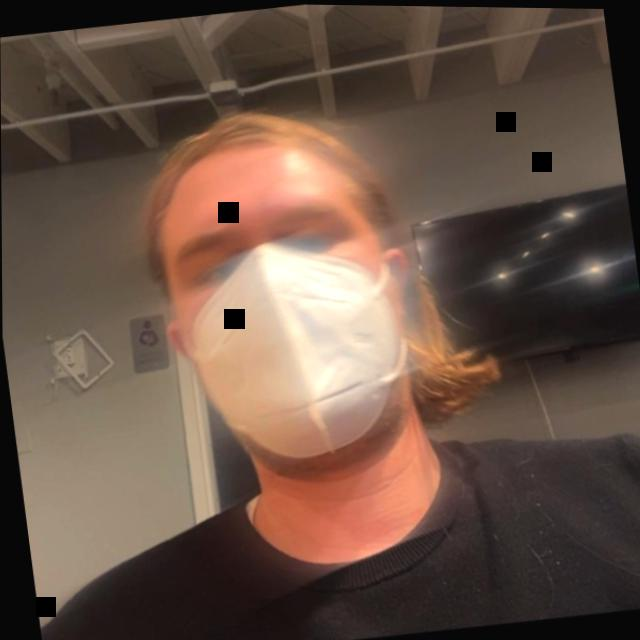Mask: (122, 32, 564, 540)
